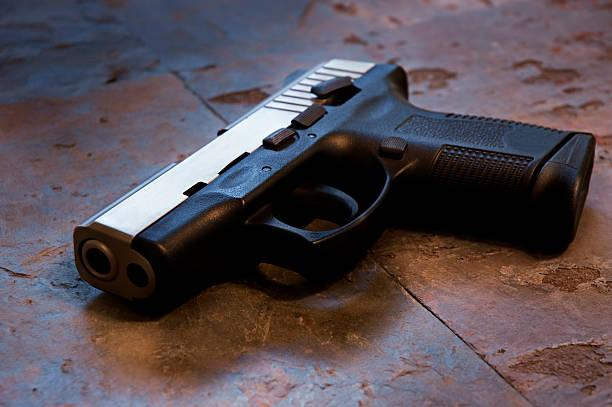weapon: (69, 48, 604, 321)
